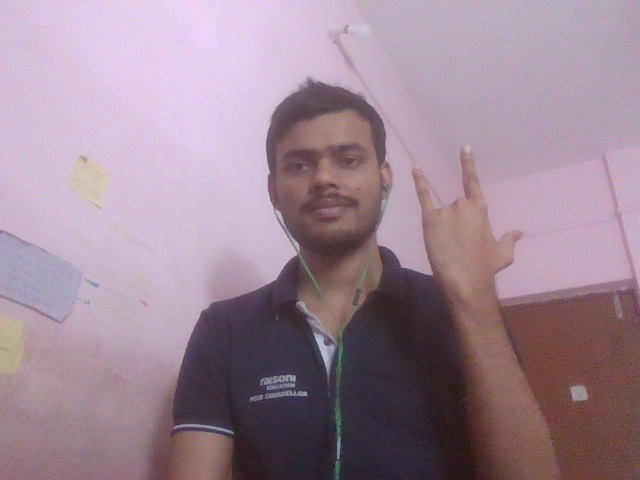ILoveYou: (375, 127, 560, 337)
